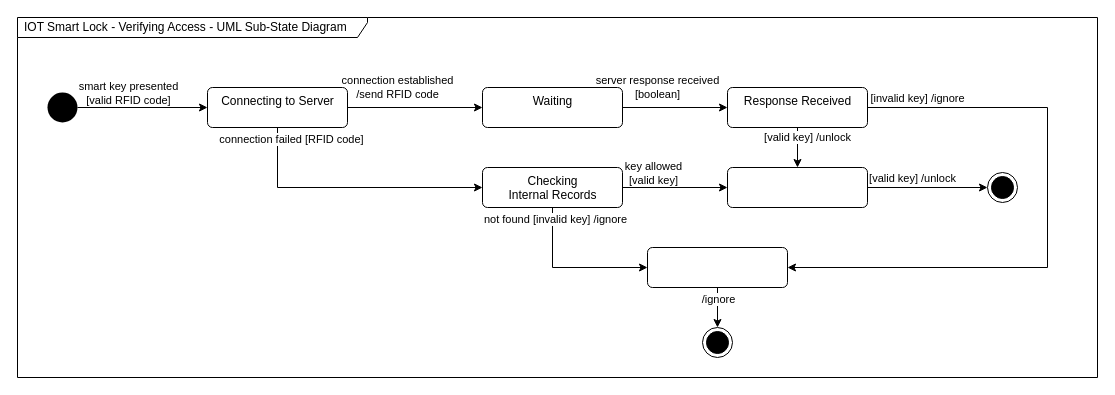
Some shapes in this 1115 by 395 pixel diagram are drawn without their labels. The box of each missing label's shape, as (x1, y1, x2, y2) in pixels:
Invalid Key: (646, 246, 788, 288)
Key Access Verified: (726, 166, 868, 208)
